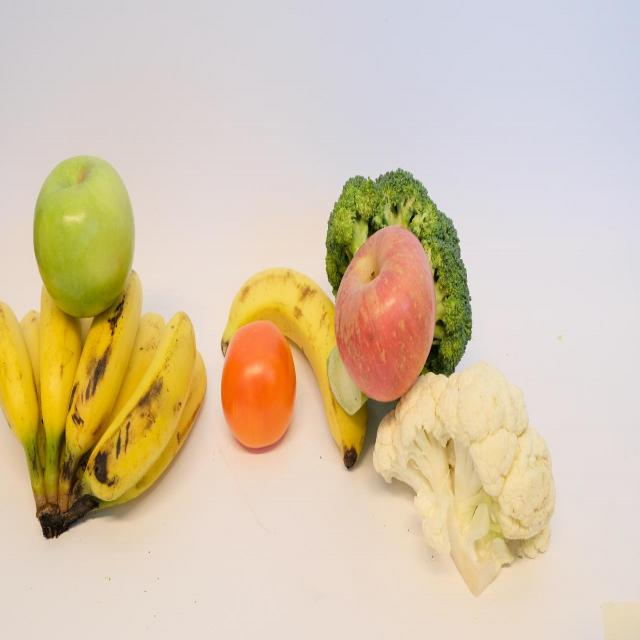apple: (35, 146, 135, 307), (332, 240, 440, 378)
banana: (230, 250, 362, 460), (86, 301, 192, 508), (70, 271, 147, 454), (43, 257, 83, 443), (0, 296, 40, 460)
broccoli: (326, 164, 466, 364)
cauliflower: (362, 372, 557, 587)
tomato: (215, 310, 296, 456)
